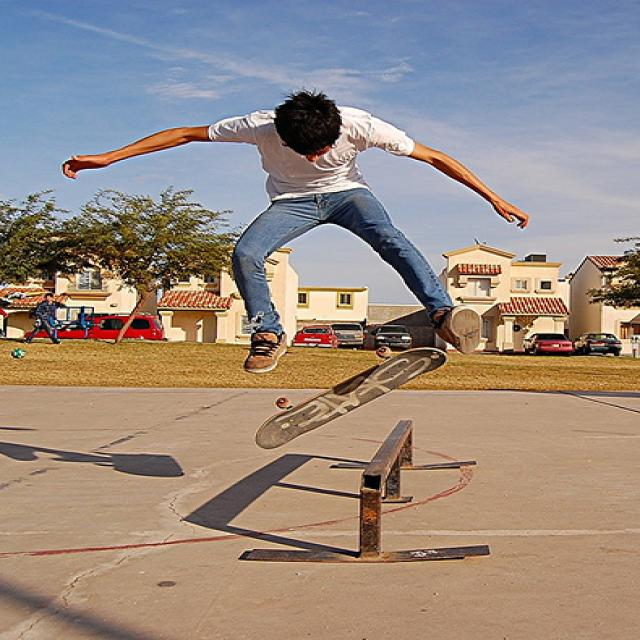Vehicle: (25, 315, 165, 340), (572, 332, 621, 357), (371, 323, 414, 351), (291, 325, 339, 348), (292, 325, 338, 349), (522, 333, 575, 352), (332, 324, 368, 350)
